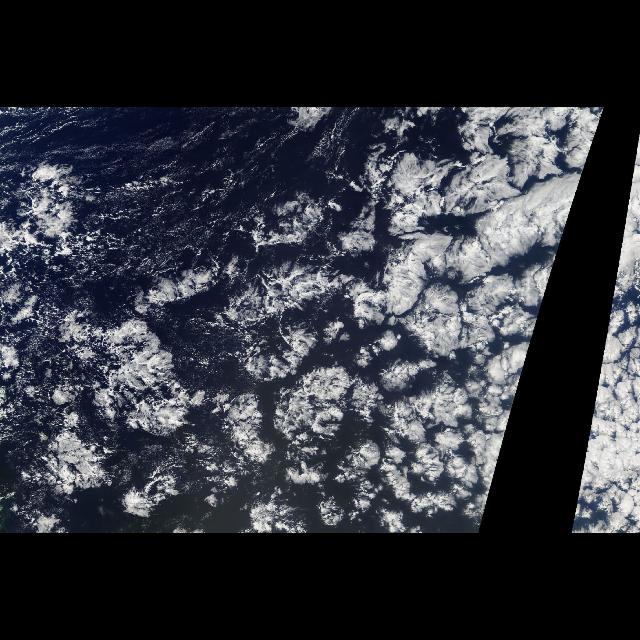Flower: (6, 201, 574, 533), (573, 202, 629, 524)
Sugar: (9, 117, 355, 193)
